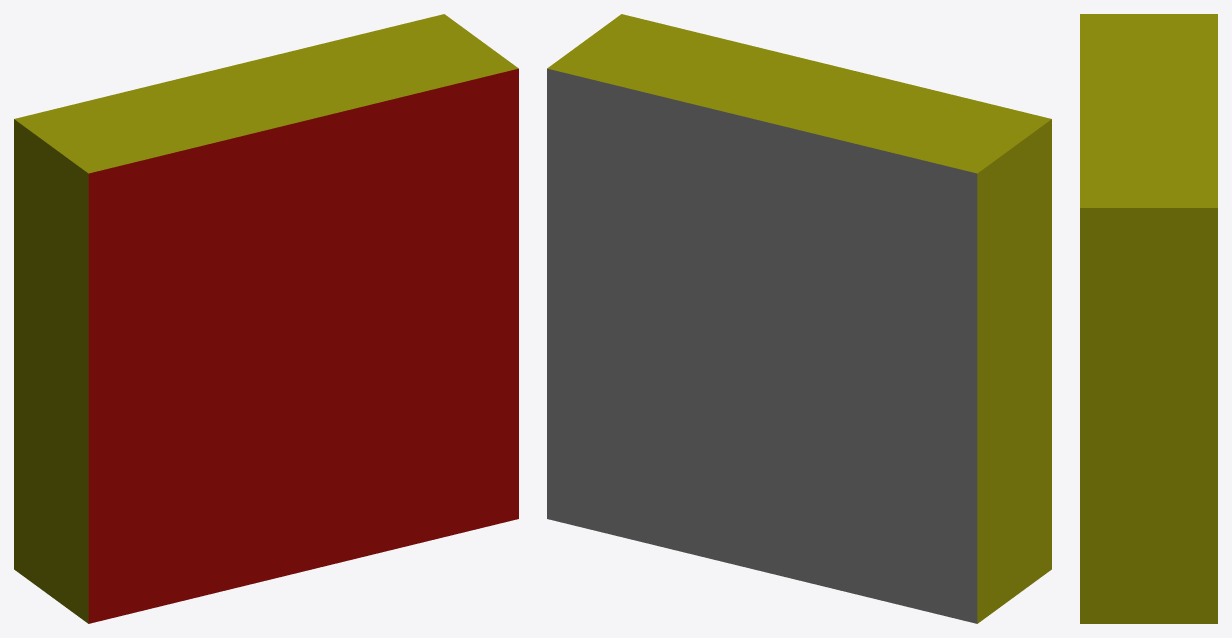
File: 1ZoneDataCenterCRAC_wApproachTemp.idf.obj
3 views of the same model, side by side, from view 1: azimuth 30°, elevation 25°; view 2: azimuth 150°, elevation 25°; view 3: azimuth 270°, elevation 25° (orthographic). The views are drawn at different scales.
Bounding box in the file's own units: 15.24 × 15.24 × 4.57.
